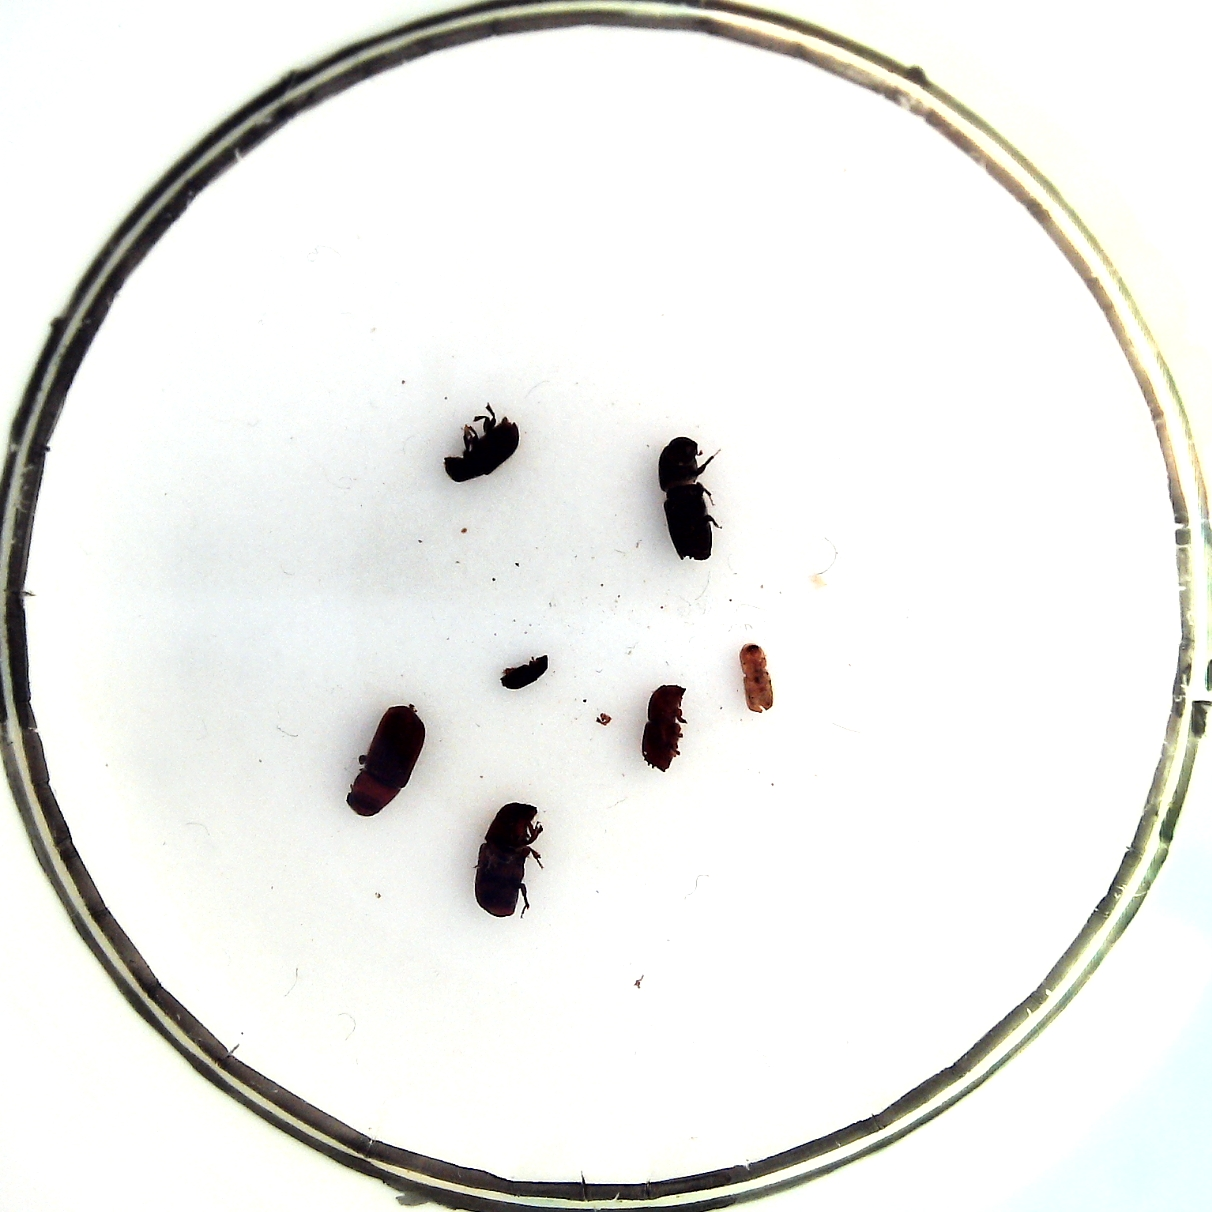Boerner: (659, 437, 713, 560)
Leconte: (349, 703, 425, 817), (475, 802, 537, 918)
acuminatus: (502, 654, 548, 690)
armandi: (443, 417, 518, 482)
coleoptera: (740, 643, 774, 713)
linnaeus: (642, 684, 685, 772)
